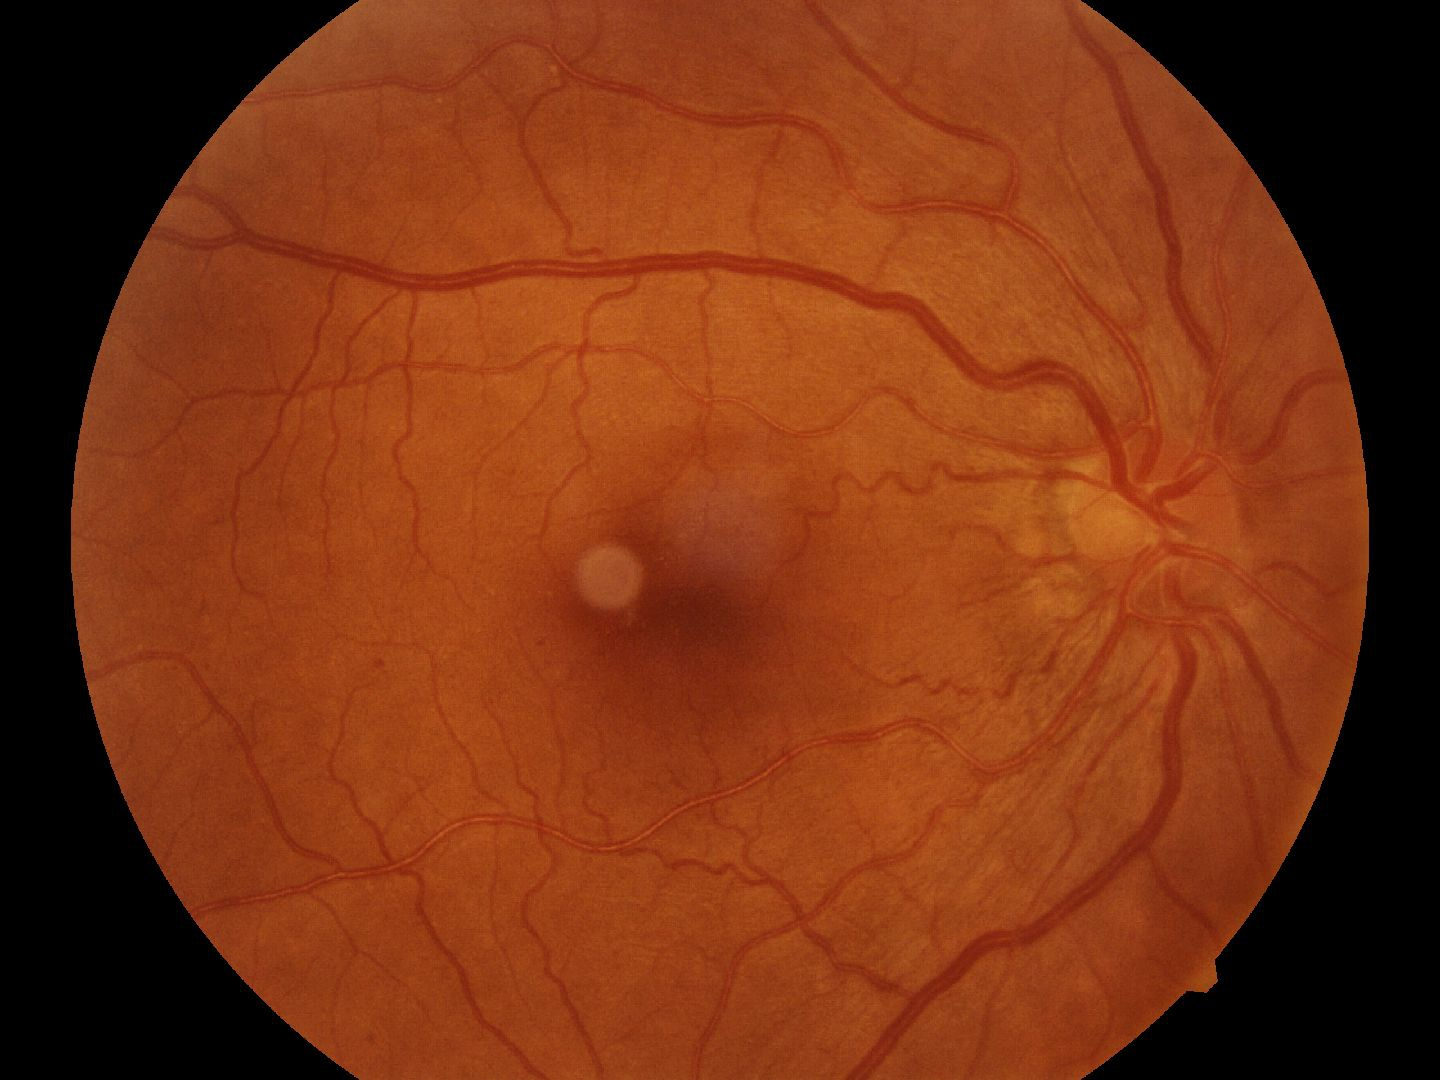Arterioles: (254, 312, 507, 508), (404, 746, 627, 910)
Hemorrhages: (568, 547, 749, 724)
Optic-Disc: (1079, 433, 1257, 608)
Venules: (946, 784, 1167, 1026), (553, 238, 941, 320)
